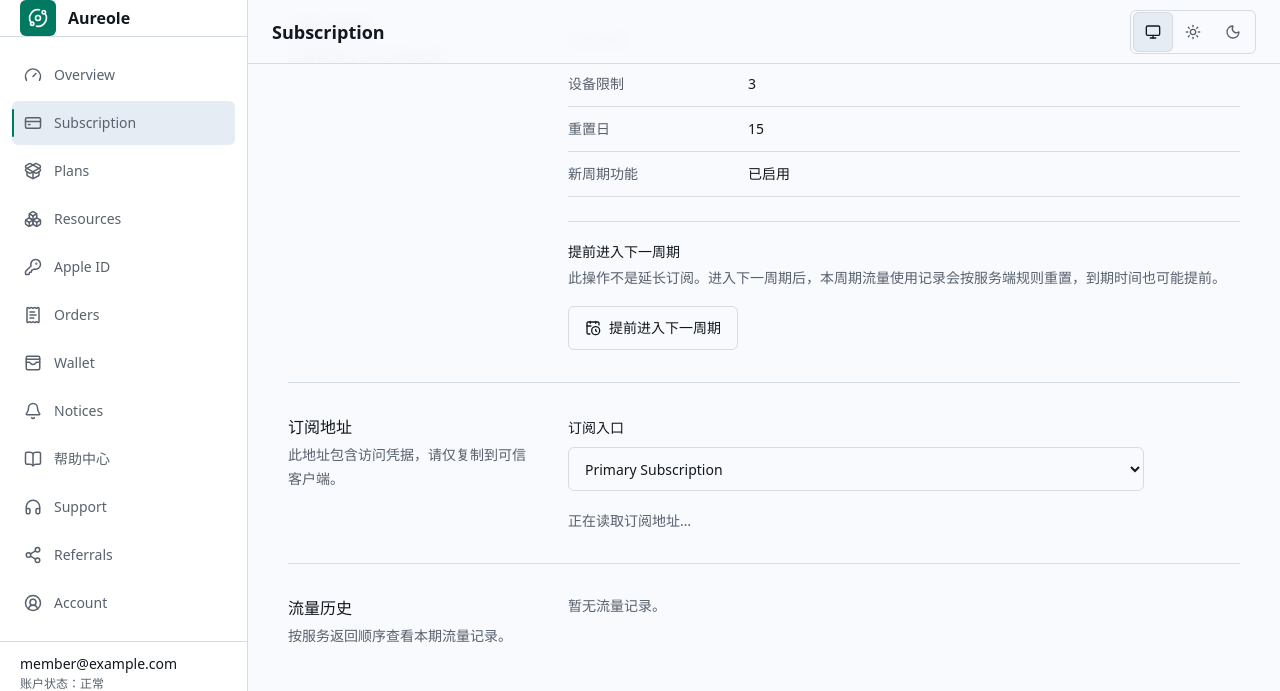
Test: Subscription delivery selection and credential runtime › suppresses A immediately and ignores its late result after selecting B
(page scrolled)
Select "Backup Subscription" in the dropdown labelled "订阅入口": (856, 469) [568, 447, 1144, 491]
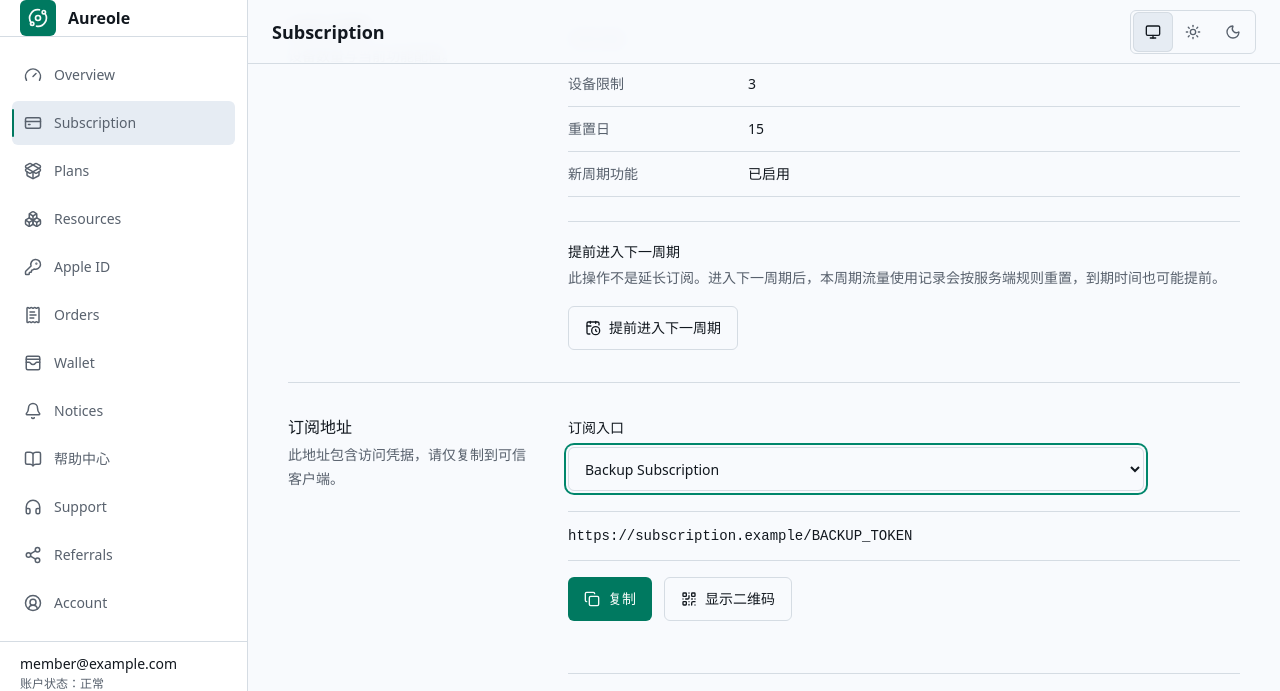
Expected: the text "https://subscription.example/BACKUP_TOKEN" is shown, [568, 528, 912, 544]
